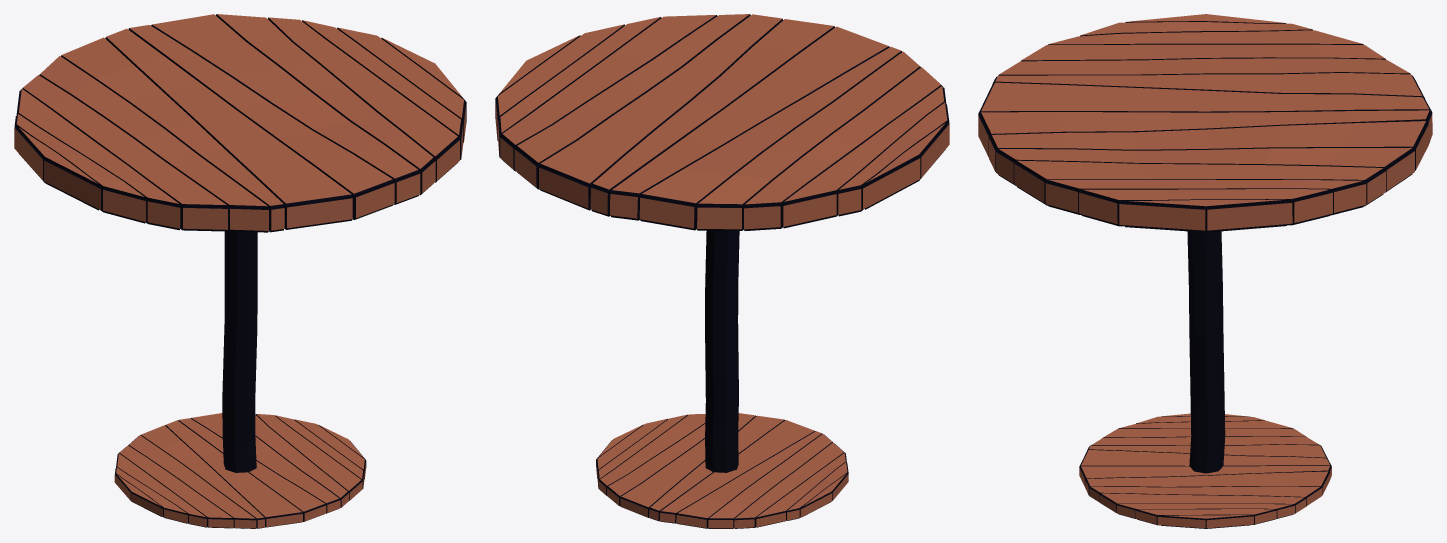
Rendered from round table.fbx.
3 renders of one model, left to right at view 1: azimuth 30°, elevation 25°; view 2: azimuth 150°, elevation 25°; view 3: azimuth 270°, elevation 25°, orthographic.
Visible parts, largest first — view 1: round table; view 2: round table; view 3: round table.
Part boxes in pixels (x1=…): round table: x1=14, y1=14, x2=466, y2=528; round table: x1=495, y1=14, x2=949, y2=528; round table: x1=978, y1=14, x2=1432, y2=528.
Size of the model in its own units: 80 by 71.49 by 80.
